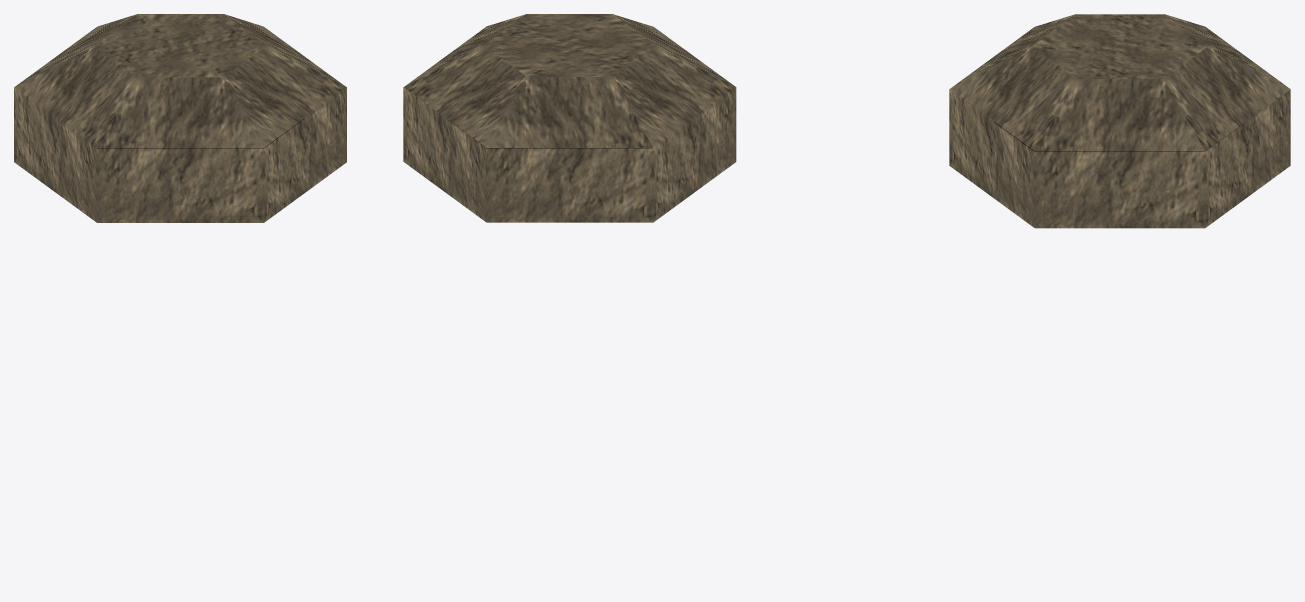
Rendered from autocannoncamo4.glb.
3 renders of one model, left to right at view 1: azimuth 30°, elevation 25°; view 2: azimuth 150°, elevation 25°; view 3: azimuth 270°, elevation 25°, orthographic. The views are drawn at different scales.
Visible parts, largest first — view 1: Doorbase, Door05, Door06, Door03, Door02; view 2: Doorbase, Door02, Door06, Door03, Door05; view 3: Doorbase, Door03, Door05, Door02, Door06.
Part boxes in pixels (x1,y1,x2,y2): Doorbase: (14,87,346,222); Door05: (97,45,346,148); Door06: (14,14,223,148); Door03: (138,14,344,85); Door02: (14,14,251,87); Doorbase: (403,26,736,222); Door02: (404,45,652,147); Door06: (527,14,735,147); Door03: (404,14,612,86); Door05: (486,14,734,86); Doorbase: (949,27,1290,228); Door03: (1032,46,1207,151); Door05: (950,14,1076,151); Door02: (1164,14,1290,151); Door06: (1031,14,1207,46).
Bounding box in the file's own units: 7.27 × 13.6 × 12.21.
4 materials, 4 textured.
